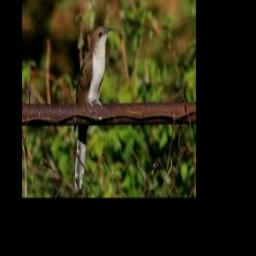Cuckoo: (74, 26, 113, 191)
